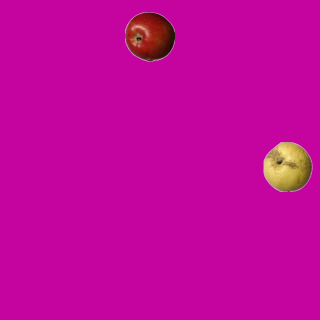Apple Braeburn: (124, 11, 174, 61)
Apple Golden 1: (262, 141, 312, 191)
